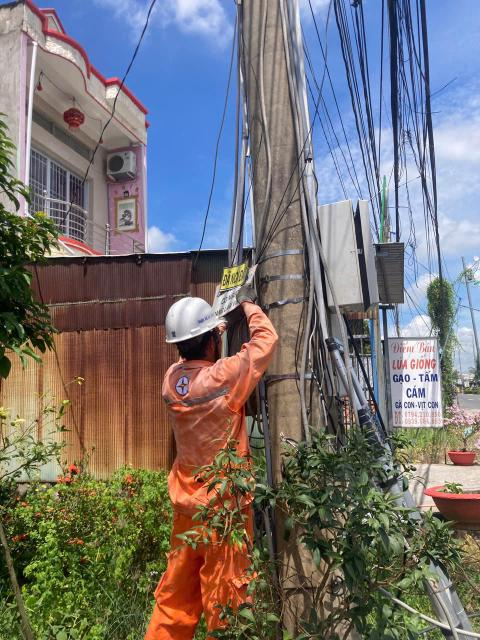gloves: (227, 276, 269, 319)
helmet: (138, 293, 226, 346)
